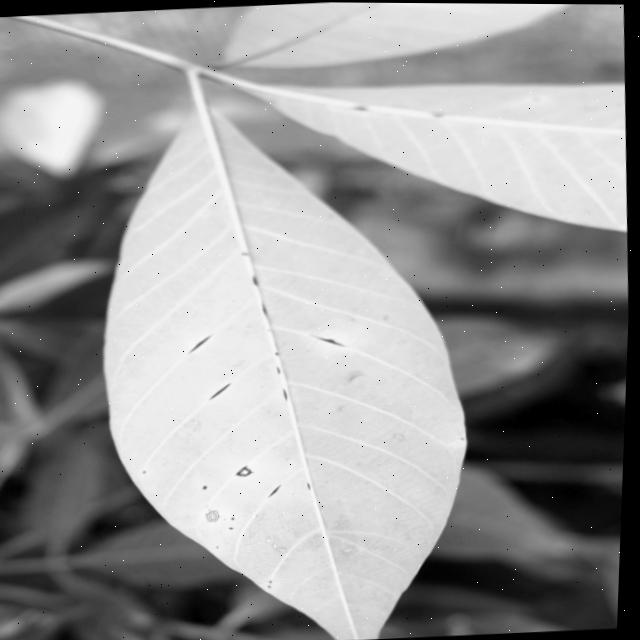Colletotrichum: (210, 510, 223, 521), (240, 466, 254, 475)
